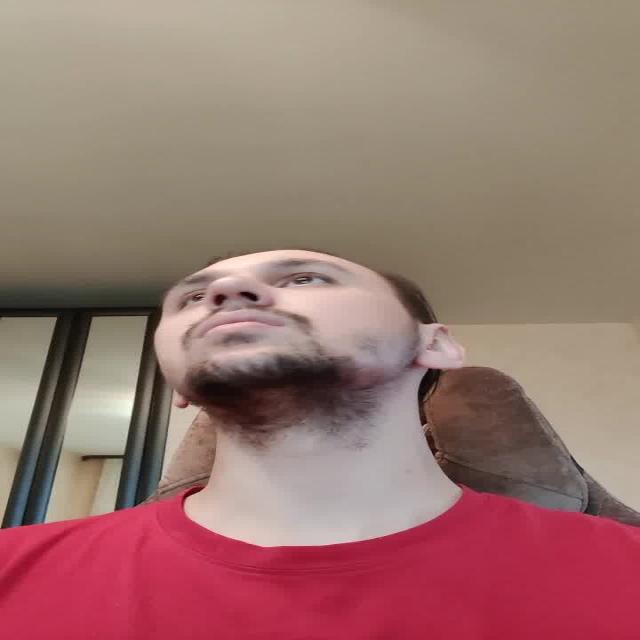earlobe: (418, 357, 457, 371), (172, 391, 190, 411)
eye: (276, 273, 335, 288), (178, 290, 211, 306)
nose: (205, 301, 270, 313)
wholeear: (422, 322, 470, 371)
